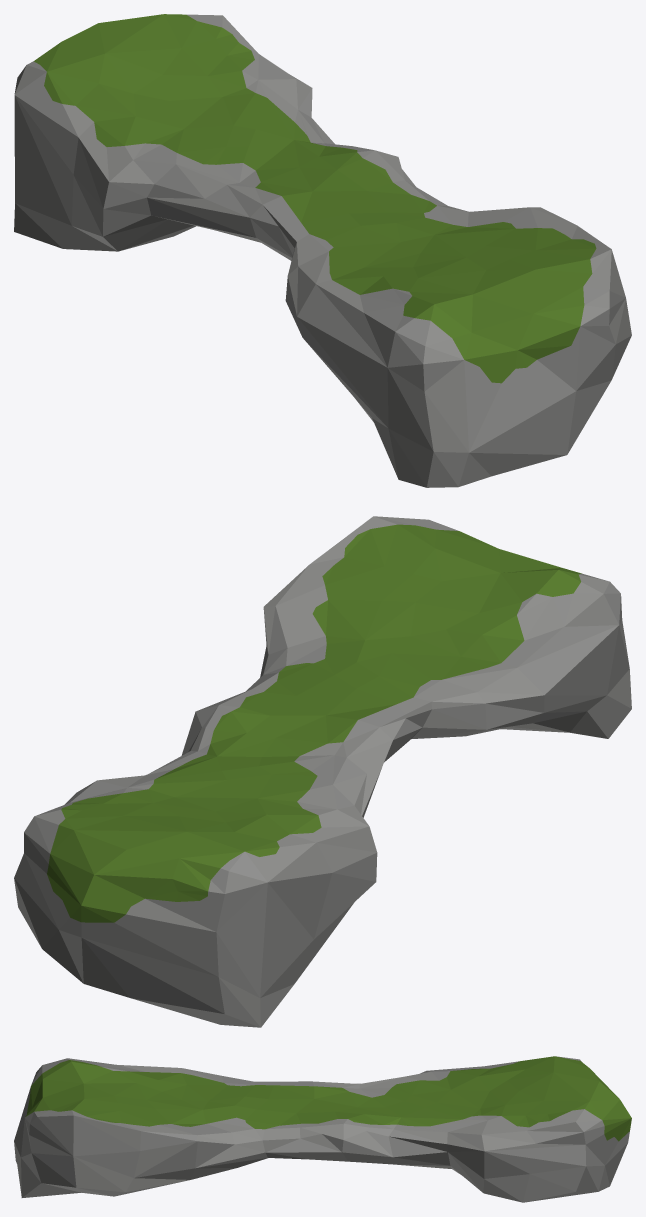
The model's file is Cavern_FloorGrass_Narrow_Bridge_Lrg-01.fbx.
3 views of the same model, one above another, from view 1: azimuth 30°, elevation 25°; view 2: azimuth 150°, elevation 25°; view 3: azimuth 270°, elevation 25° (orthographic). The views are drawn at different scales.
Visible parts, largest first — view 1: Cavern_FloorGrass_Narrow_Bridge_Lrg-01; view 2: Cavern_FloorGrass_Narrow_Bridge_Lrg-01; view 3: Cavern_FloorGrass_Narrow_Bridge_Lrg-01.
Boxes of the visible parts, x1=… form: Cavern_FloorGrass_Narrow_Bridge_Lrg-01: x1=14, y1=14, x2=631, y2=487; Cavern_FloorGrass_Narrow_Bridge_Lrg-01: x1=14, y1=516, x2=631, y2=1027; Cavern_FloorGrass_Narrow_Bridge_Lrg-01: x1=14, y1=1056, x2=631, y2=1202.
Bounding box in the file's own units: 753 × 477 × 2020.
1 material, 1 textured.
